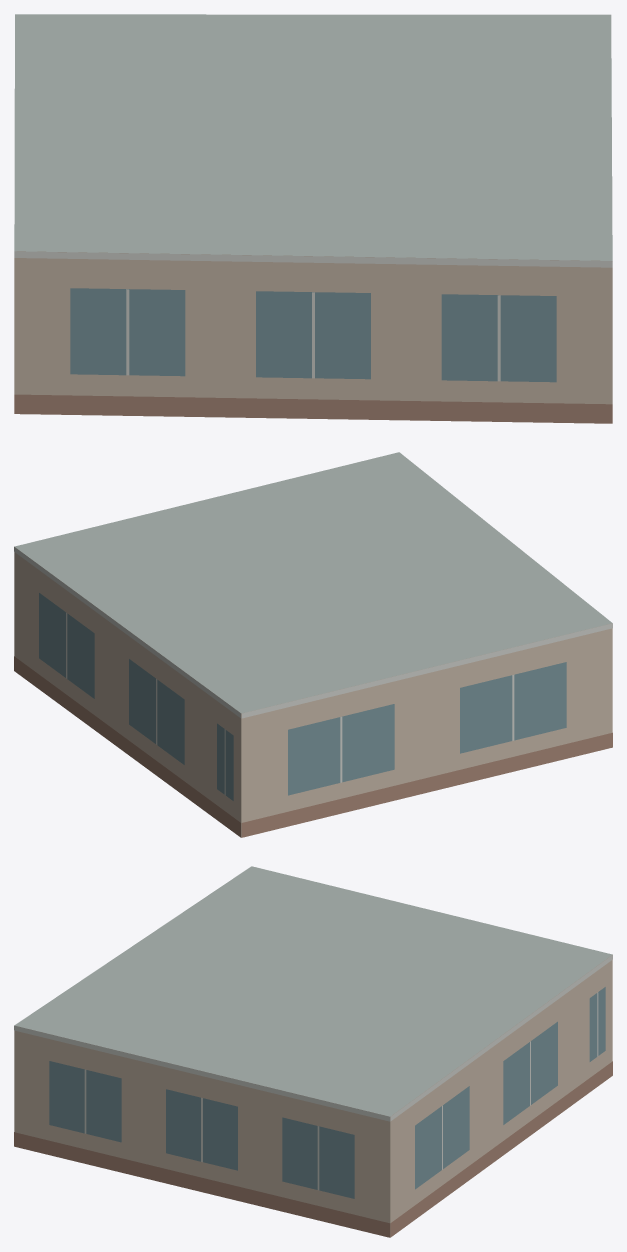
File: survey-upis-32915751.glb
3 views of the same model, one above another, from view 1: azimuth 30°, elevation 25°; view 2: azimuth 150°, elevation 25°; view 3: azimuth 270°, elevation 25° (orthographic). The views are drawn at different scales.
Parts seen in each view (by area): view 1: survey-upis-32915751.tmp; view 2: survey-upis-32915751.tmp; view 3: survey-upis-32915751.tmp.
Boxes of the visible parts, box(x1,y1,x2,y2) form: survey-upis-32915751.tmp: box(14, 14, 612, 423); survey-upis-32915751.tmp: box(14, 452, 612, 837); survey-upis-32915751.tmp: box(14, 866, 612, 1237).
Size of the model in its own units: 13.55 by 3.05 by 13.68.
